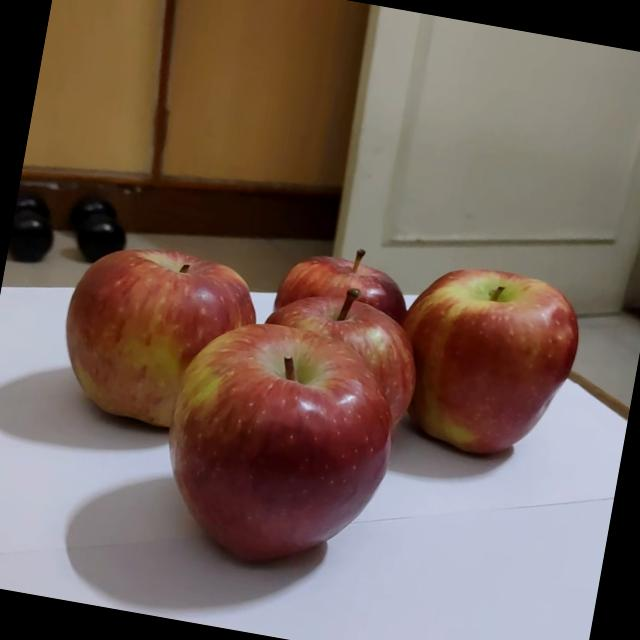apple: (138, 320, 417, 608), (28, 245, 254, 467), (368, 256, 578, 482), (228, 288, 420, 429), (244, 241, 402, 370)
